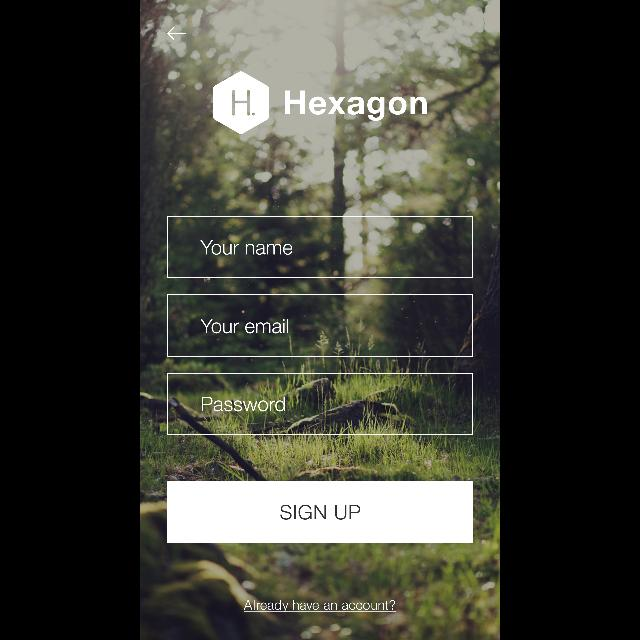backgroundimage: (140, 1, 500, 640)
icon: (168, 27, 186, 41)
image: (213, 72, 269, 134)
input: (167, 216, 473, 278), (167, 295, 473, 357), (167, 373, 473, 435)
text: (285, 90, 427, 122), (244, 600, 396, 612), (201, 240, 293, 256), (200, 318, 288, 334), (202, 396, 286, 412)
textbutton: (167, 481, 473, 543)
